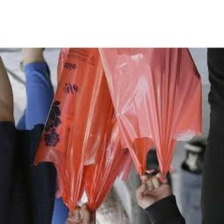plastic_bag: (28, 45, 148, 220), (93, 43, 208, 189)
